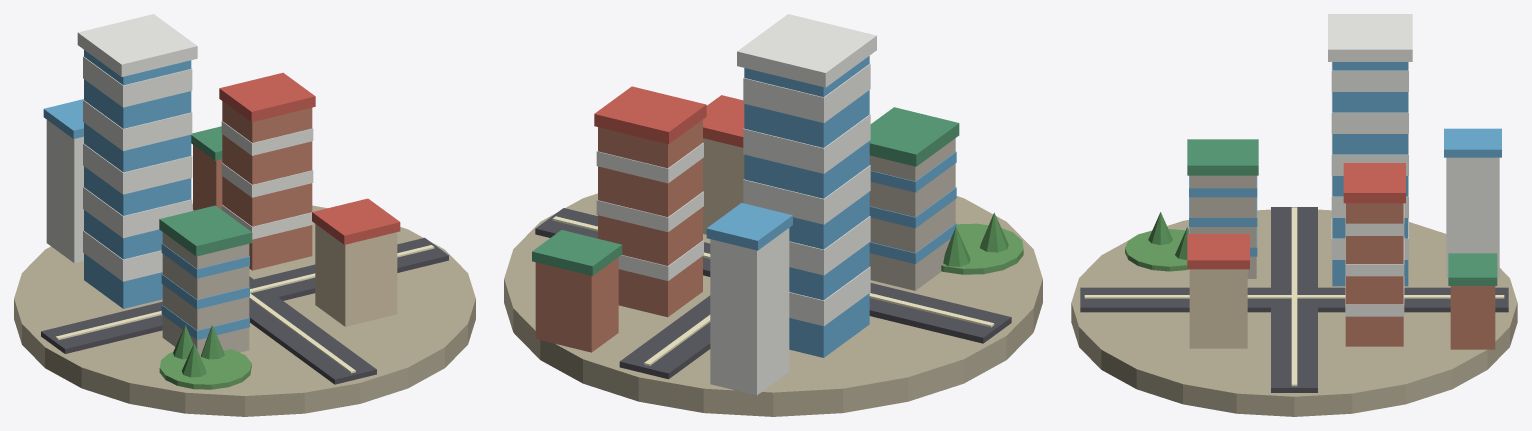
The model's file is city.glb.
3 renders of one model, left to right at view 1: azimuth 30°, elevation 25°; view 2: azimuth 150°, elevation 25°; view 3: azimuth 270°, elevation 25°, orthographic. The views are drawn at different scales.
Parts seen in each view (by area): view 1: city_plaza, city_tower, city_block_a, city_block_c, city_block_b, city_road_x, city_tower_cap, city_block_d, city_road_y, city_block_a_roof, city_block_b_roof, city_block_c_roof (+19 smaller); view 2: city_plaza, city_tower, city_block_a, city_block_d, city_block_b, city_tower_cap, city_block_e, city_road_x, city_block_a_roof, city_block_b_roof, city_tower_win_4, city_tower_win_3 (+19 smaller); view 3: city_plaza, city_road_x, city_block_a, city_road_y, city_block_d, city_tower, city_block_c, city_tower_cap, city_block_b, city_block_e, city_block_b_roof, city_block_a_roof (+17 smaller).
Boxes of the visible parts, x1,y1,x2,y2 form: city_plaza: (14,203,475,416); city_tower: (84,50,191,308); city_block_a: (222,101,312,270); city_block_c: (315,224,397,326); city_block_b: (162,232,249,356); city_road_x: (41,237,448,353); city_tower_cap: (77,14,197,76); city_block_d: (46,120,83,263); city_road_y: (249,276,376,384); city_block_a_roof: (219,72,315,122); city_block_b_roof: (159,205,252,256); city_block_c_roof: (312,198,400,244); city_plaza: (504,193,1042,416); city_tower: (744,56,869,357); city_block_a: (598,119,702,317); city_block_d: (710,228,789,395); city_block_b: (869,138,955,290); city_tower_cap: (737,14,876,87); city_block_e: (535,257,618,352); city_road_x: (535,208,1011,343); city_block_a_roof: (594,86,706,144); city_block_b_roof: (869,107,959,166); city_tower_win_4: (743,63,870,122); city_tower_win_3: (743,114,870,173); city_plaza: (1071,209,1517,416); city_road_x: (1271,207,1317,392); city_block_a: (1345,203,1403,346); city_road_y: (1080,287,1508,312); city_block_d: (1446,157,1499,277); city_tower: (1332,62,1408,286); city_block_c: (1189,269,1247,348); city_tower_cap: (1328,14,1412,61); city_block_b: (1189,175,1256,278); city_block_e: (1450,286,1495,349); city_block_b_roof: (1187,139,1258,175); city_block_a_roof: (1343,163,1405,203).
Size of the model in its own units: 1 by 0.64 by 1.
